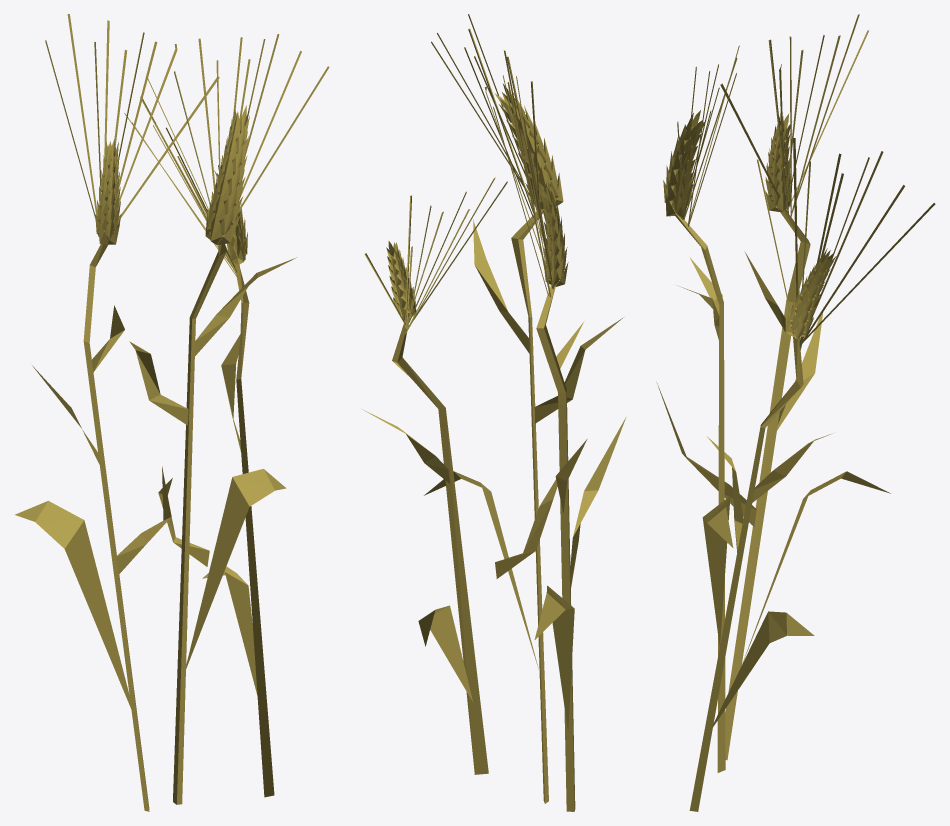
Rendered from Wheat_5.fbx.
The picture shows the model from 3 angles, left to right: view 1: azimuth 30°, elevation 25°; view 2: azimuth 150°, elevation 25°; view 3: azimuth 270°, elevation 25°; orthographic projection.
Parts seen in each view (by area): view 1: Wheat_5; view 2: Wheat_5; view 3: Wheat_5.
Part boxes in pixels (left/top/right/bottom): Wheat_5: left=15, top=14, right=329, bottom=811; Wheat_5: left=362, top=14, right=626, bottom=811; Wheat_5: left=656, top=14, right=935, bottom=811.
Size of the model in its own units: 92.2 by 297 by 101.
